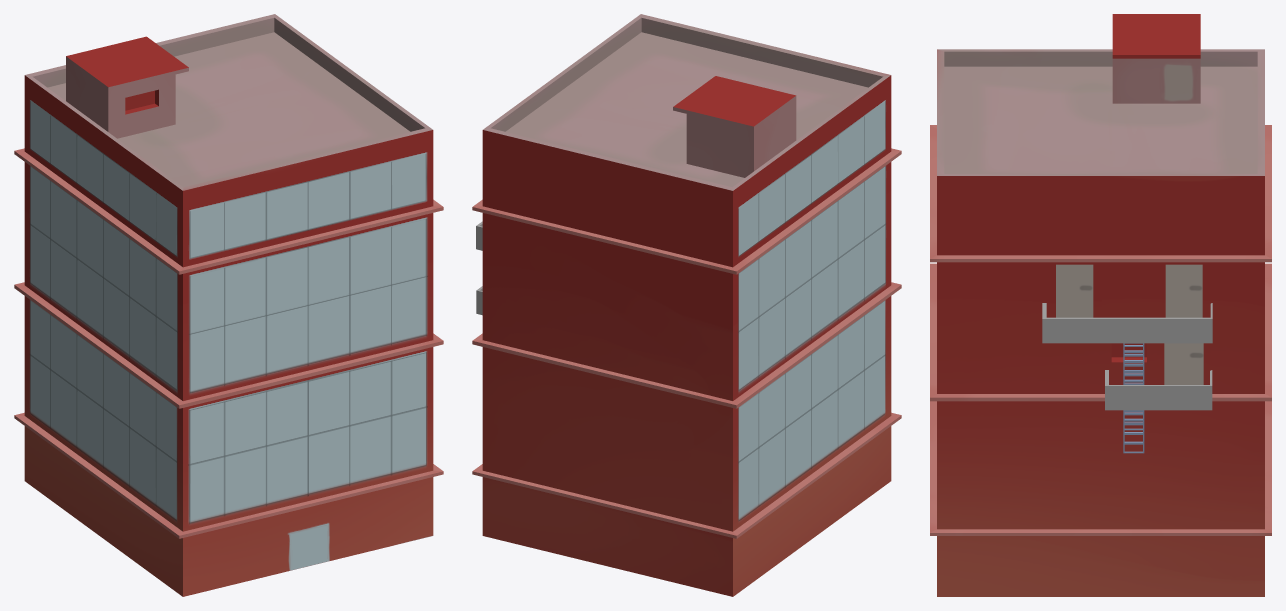
Rendered from building3.fbx.
3 renders of one model, left to right at view 1: azimuth 30°, elevation 25°; view 2: azimuth 150°, elevation 25°; view 3: azimuth 270°, elevation 25°, orthographic. The views are drawn at different scales.
Visible parts, largest first — view 1: 3; view 2: 3; view 3: 3.
Boxes of the visible parts, left/top/right/bottom form: 3: left=14, top=14, right=443, bottom=596; 3: left=472, top=14, right=901, bottom=596; 3: left=930, top=14, right=1271, bottom=596.
Bounding box in the file's own units: 584 × 859 × 577.
